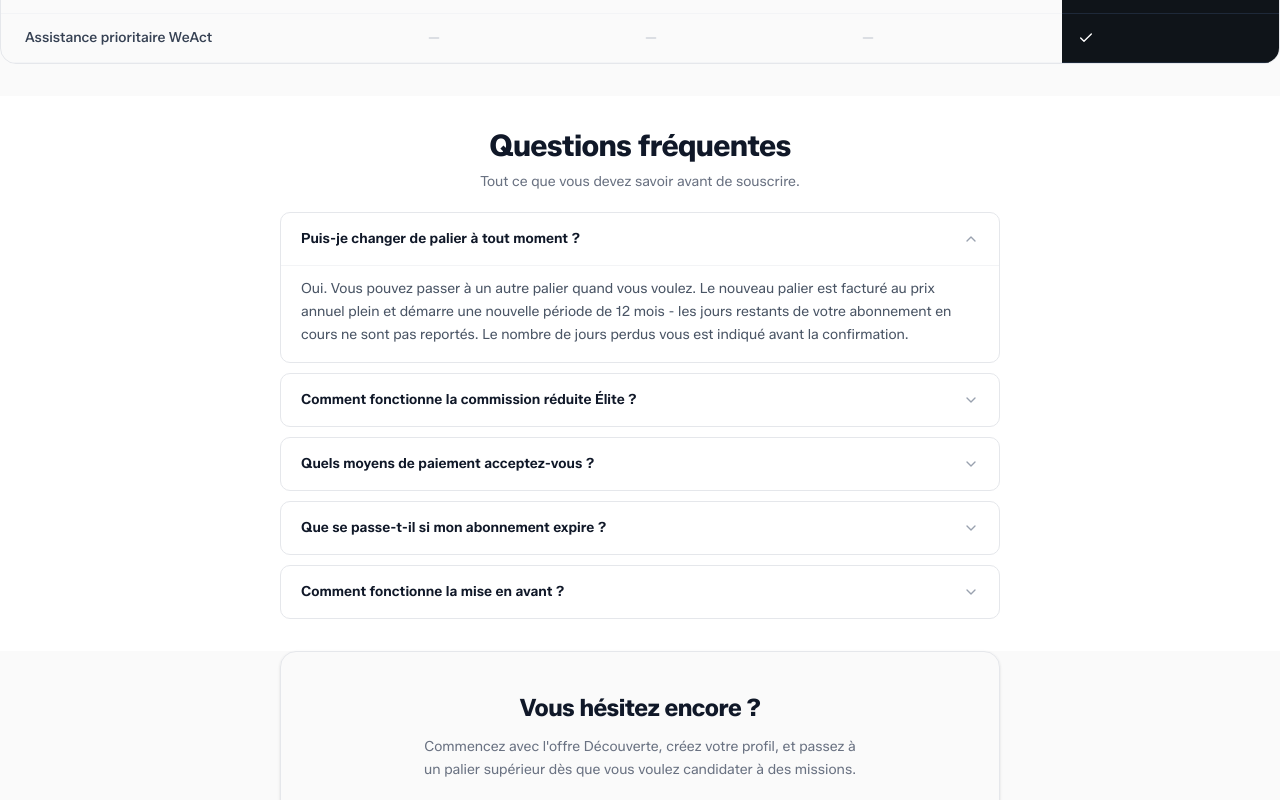
PricingView (public /pricing — FP-2.13) › FAQ accordion › toggles a closed FAQ open on click, then closes it on a second click (aria-expanded flips)
The image size is (1280, 800).
(page scrolled)
Click the button with test id "faq-toggle-1" at point(469, 400), box [281,374,999,426]
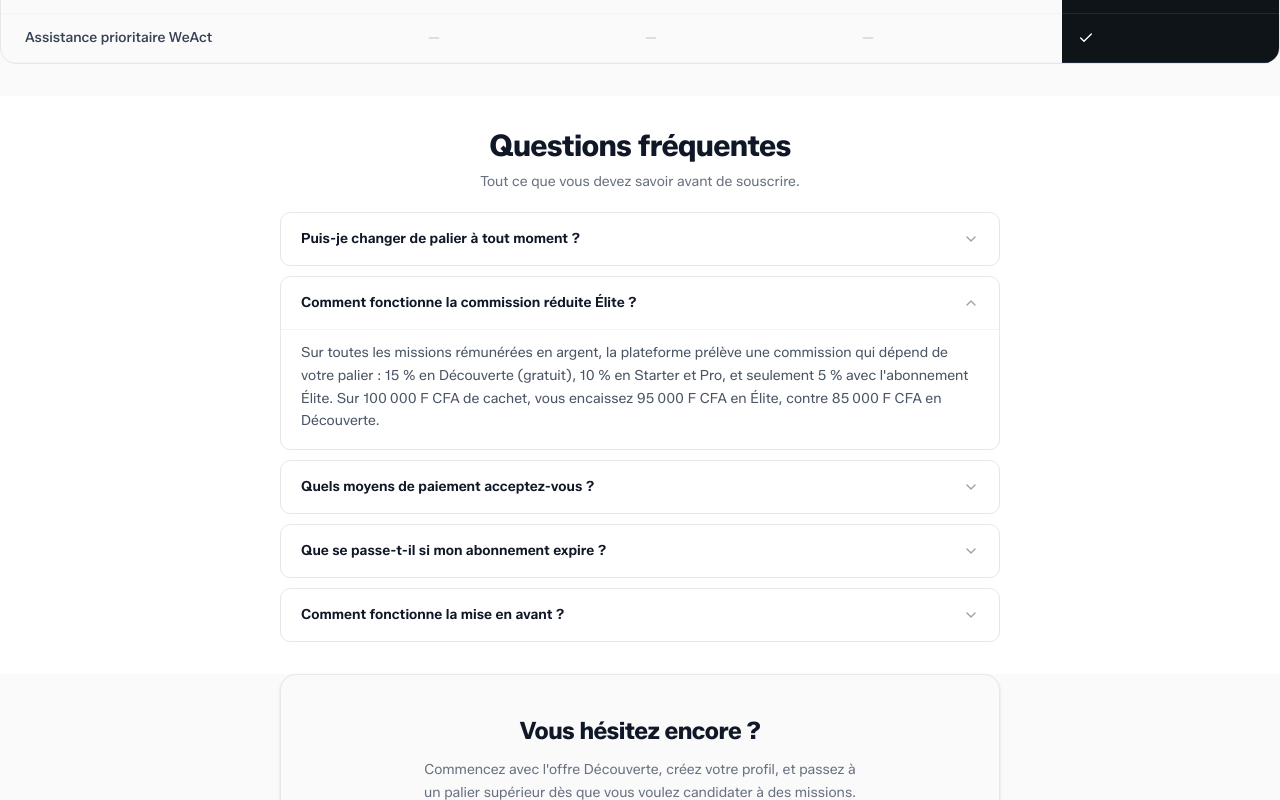
Check: the button with test id "faq-toggle-1" is expanded
Click the button with test id "faq-toggle-1" at point(469, 303), box [281,277,999,329]
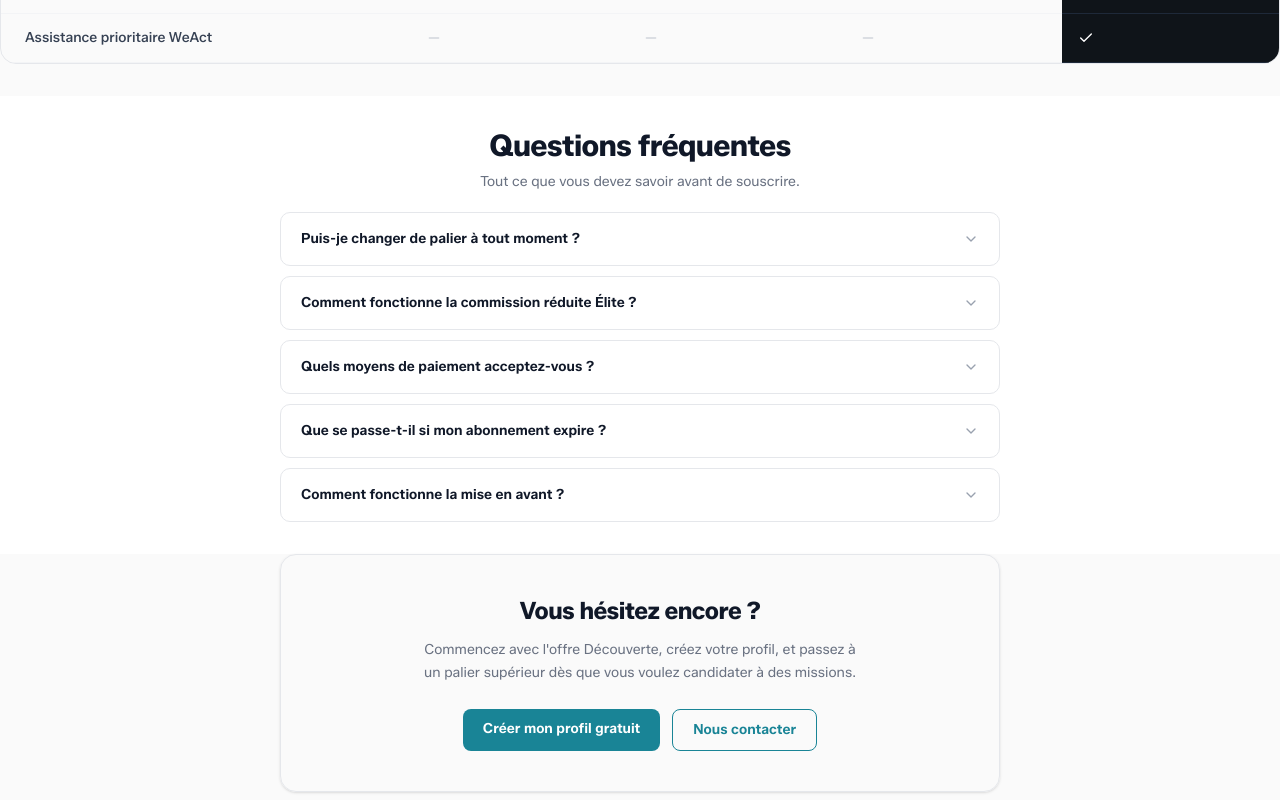
Check: the button with test id "faq-toggle-1" is collapsed, box [281,277,999,329]
